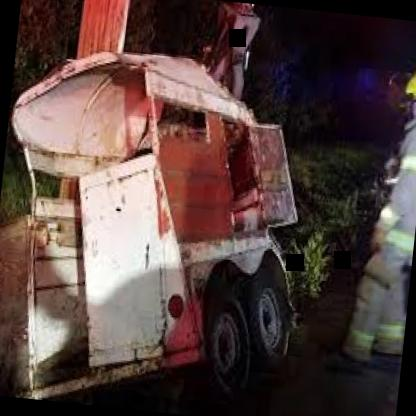accident: (0, 36, 323, 416)
